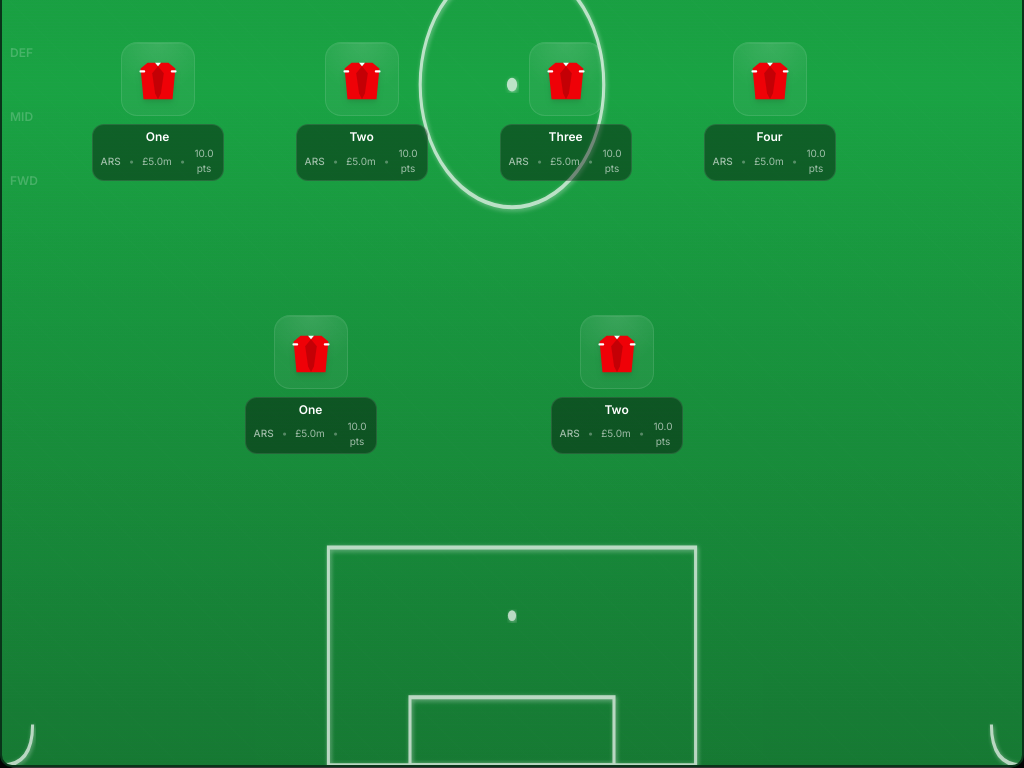
My Team interactions › renders 11 player chips and clicking selects a player and updates details panel
The width and height of the screenshot is (1024, 768).
(page scrolled)
Step 1. Click the button with test id "player-chip-10" → (311, 384), box [237, 307, 385, 462]
(page scrolled)
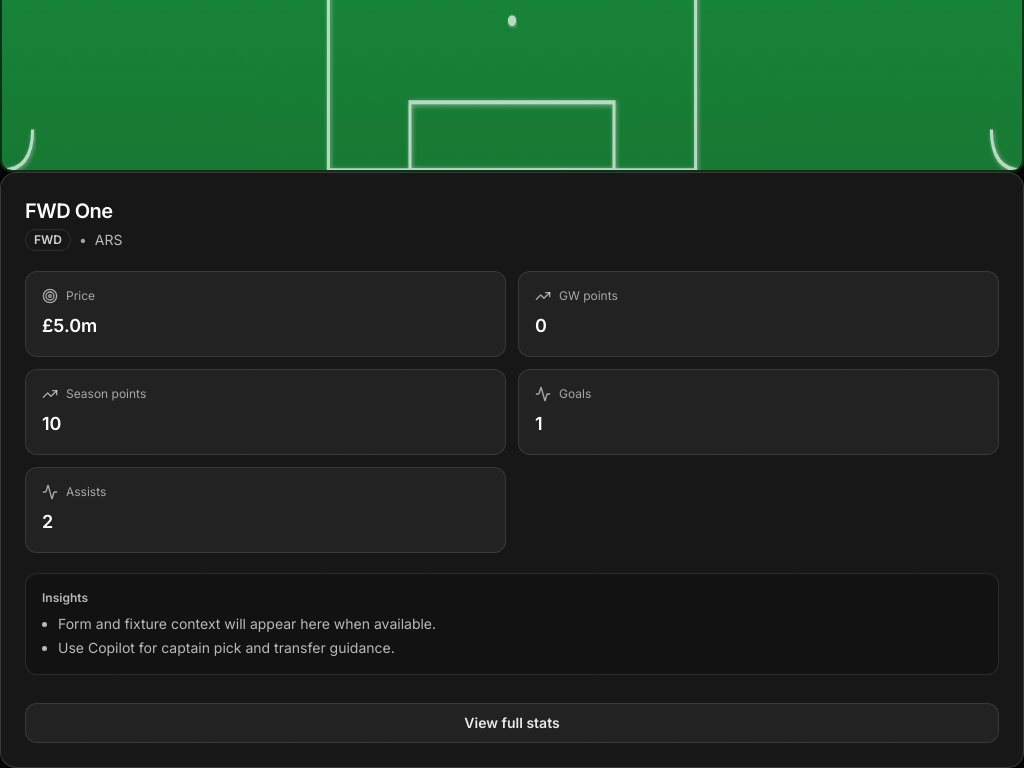
Now the button "View full stats" is shown, box [25, 703, 999, 743]
